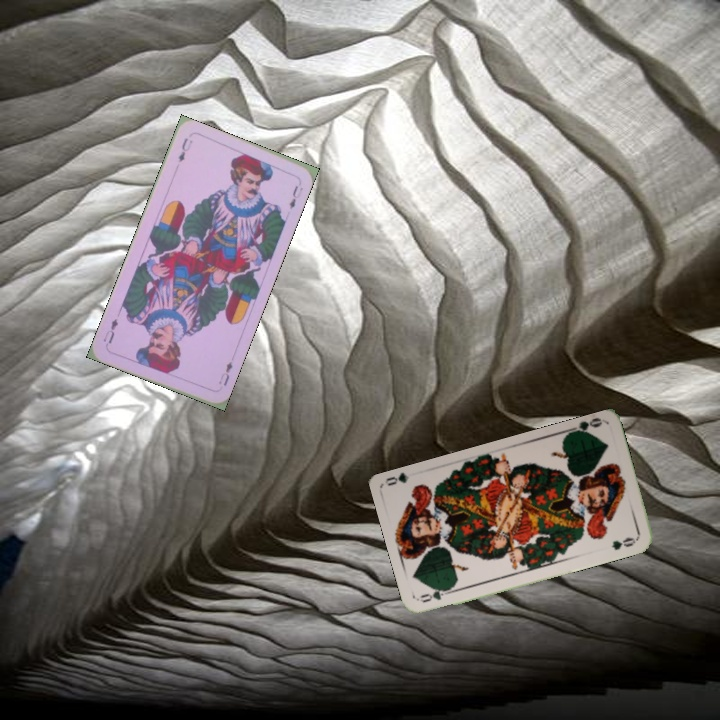EU: (214, 357, 235, 388), (174, 134, 195, 165)
GO: (564, 414, 605, 437), (416, 583, 457, 605)
